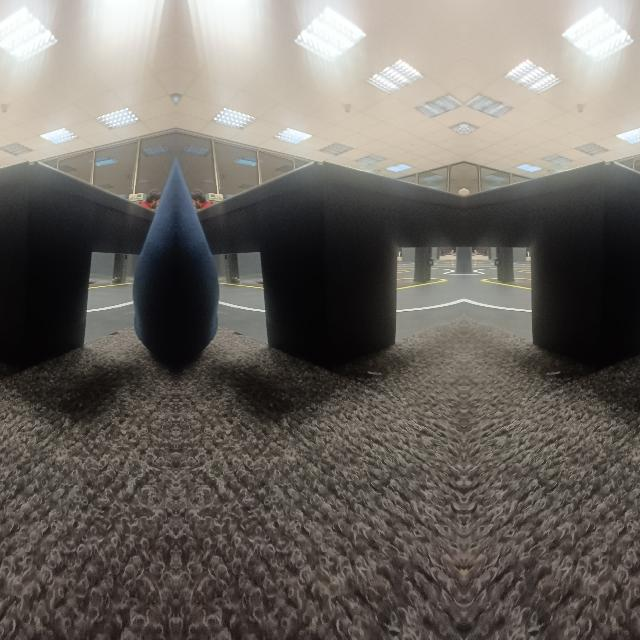obstacle: (222, 170, 463, 382), (463, 170, 640, 382), (0, 170, 127, 382), (180, 183, 218, 377), (132, 183, 170, 377)
